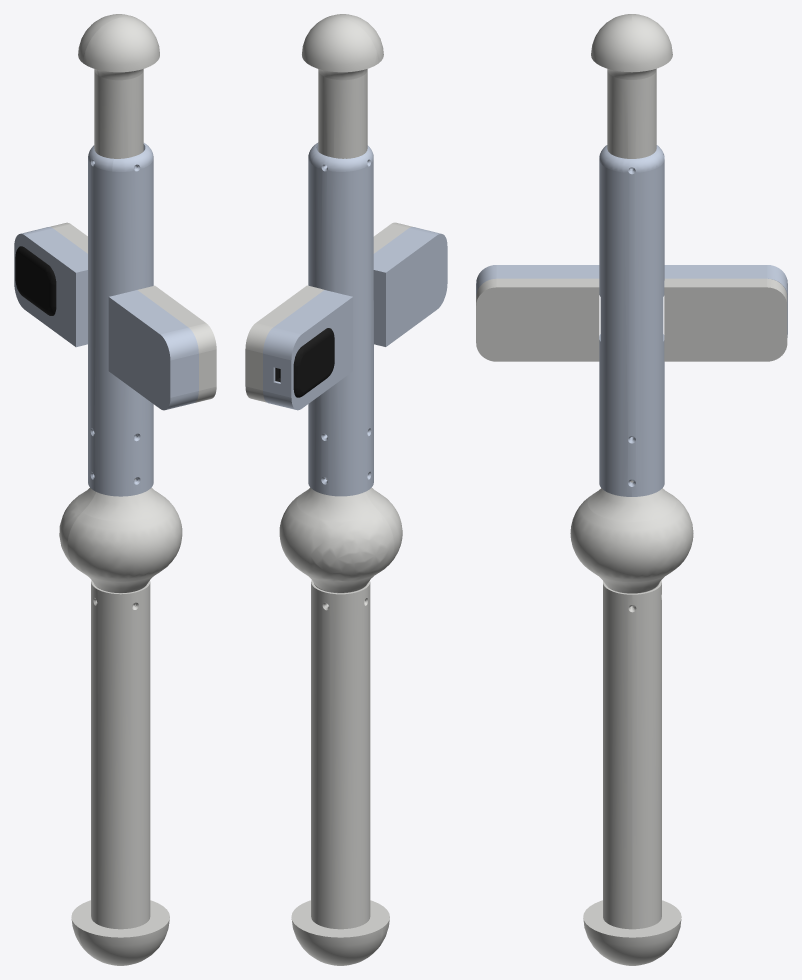
The picture shows the model from 3 angles, left to right: view 1: azimuth 30°, elevation 25°; view 2: azimuth 150°, elevation 25°; view 3: azimuth 270°, elevation 25°; orthographic projection.
Visible parts, largest first — view 1: varf baston v6, object 6, protectie camera v4, object 8, SOLID, object 7, Capac v2 (×2), Baterie v3; view 2: varf baston v6, object 6, protectie camera v4, SOLID, object 8, object 7, Capac v2 (×2), Baterie v3; view 3: varf baston v6, object 6, Capac v2 (×2), protectie camera v4, SOLID, object 7, object 8.
Boxes of the visible parts, x1,y1,x2,y2 form: varf baston v6: [71, 580, 169, 965]; object 6: [88, 143, 153, 496]; protectie camera v4: [59, 478, 182, 607]; object 8: [108, 290, 198, 410]; SOLID: [78, 14, 159, 158]; object 7: [14, 227, 87, 347]; Capac v2 (×2): [50, 222, 216, 402]; Baterie v3: [15, 246, 56, 315]; varf baston v6: [291, 580, 389, 965]; object 6: [308, 142, 373, 496]; protectie camera v4: [279, 478, 402, 607]; SOLID: [302, 14, 383, 158]; object 8: [373, 227, 447, 346]; object 7: [263, 290, 352, 410]; Capac v2 (×2): [245, 222, 412, 402]; Baterie v3: [275, 328, 334, 397]; varf baston v6: [583, 580, 681, 965]; object 6: [599, 145, 664, 496]; Capac v2 (×2): [476, 278, 787, 361]; protectie camera v4: [570, 480, 693, 609]; SOLID: [591, 14, 672, 158]; object 7: [664, 265, 787, 337]; object 8: [476, 265, 599, 296].
Size of the model in its own units: 0.1498 by 1.27 by 0.38.
